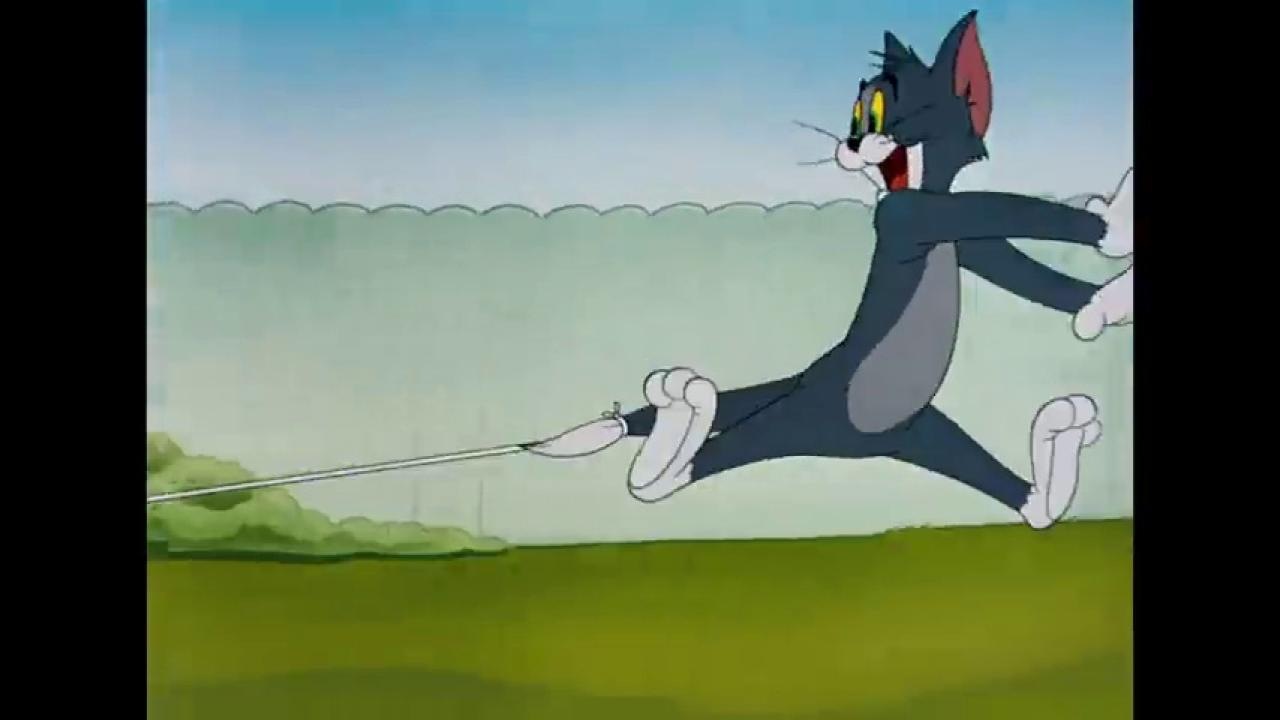Tom: (518, 6, 1132, 534)
